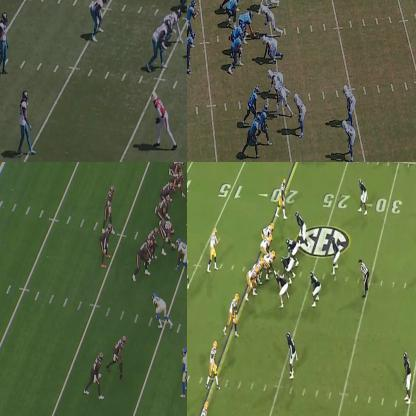CENTER: (262, 251, 276, 281), (162, 221, 174, 252), (242, 8, 254, 28)
DB: (19, 89, 33, 153), (0, 11, 10, 73), (342, 121, 356, 161), (295, 90, 305, 137), (286, 332, 296, 379), (404, 351, 412, 404), (359, 180, 368, 216), (344, 84, 353, 110), (182, 347, 186, 397)
LB: (91, 0, 108, 40), (155, 19, 168, 67), (260, 4, 278, 36), (276, 78, 291, 116), (310, 272, 320, 306), (331, 238, 340, 275)
QB: (208, 228, 218, 271), (187, 0, 196, 41), (105, 184, 114, 222)
SKILL: (151, 91, 172, 144), (86, 352, 104, 396), (206, 340, 220, 388), (112, 335, 128, 375), (224, 294, 238, 337), (250, 114, 261, 162), (295, 212, 310, 245), (276, 177, 287, 219), (260, 102, 271, 142), (248, 84, 260, 119), (101, 227, 112, 264), (171, 171, 186, 198), (187, 29, 194, 75), (196, 402, 211, 415), (169, 162, 186, 171), (187, 271, 189, 308)
